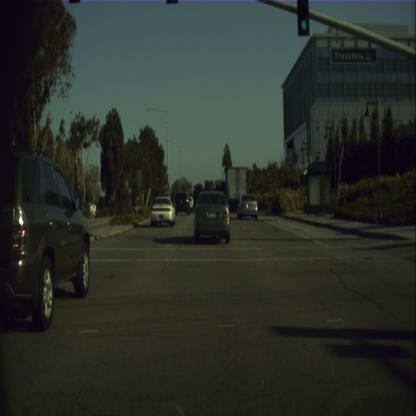Green: (296, 0, 310, 35)
